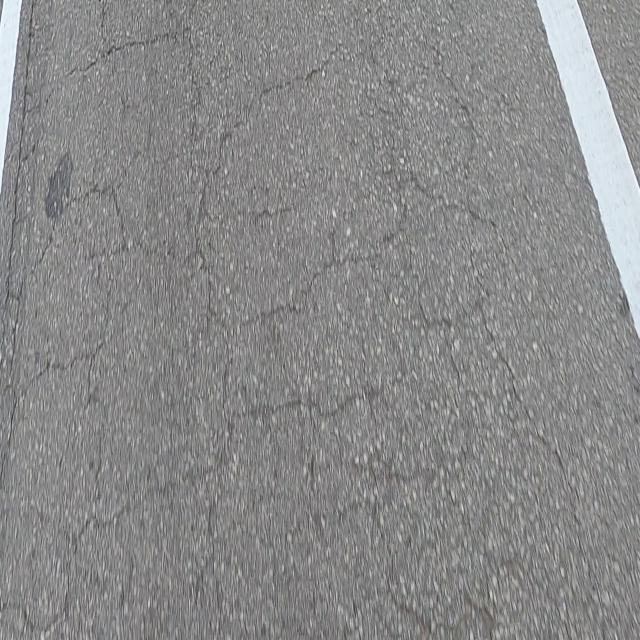Retak-Buaya: (3, 11, 579, 640)
Retak-Memanjang: (2, 0, 36, 312)
